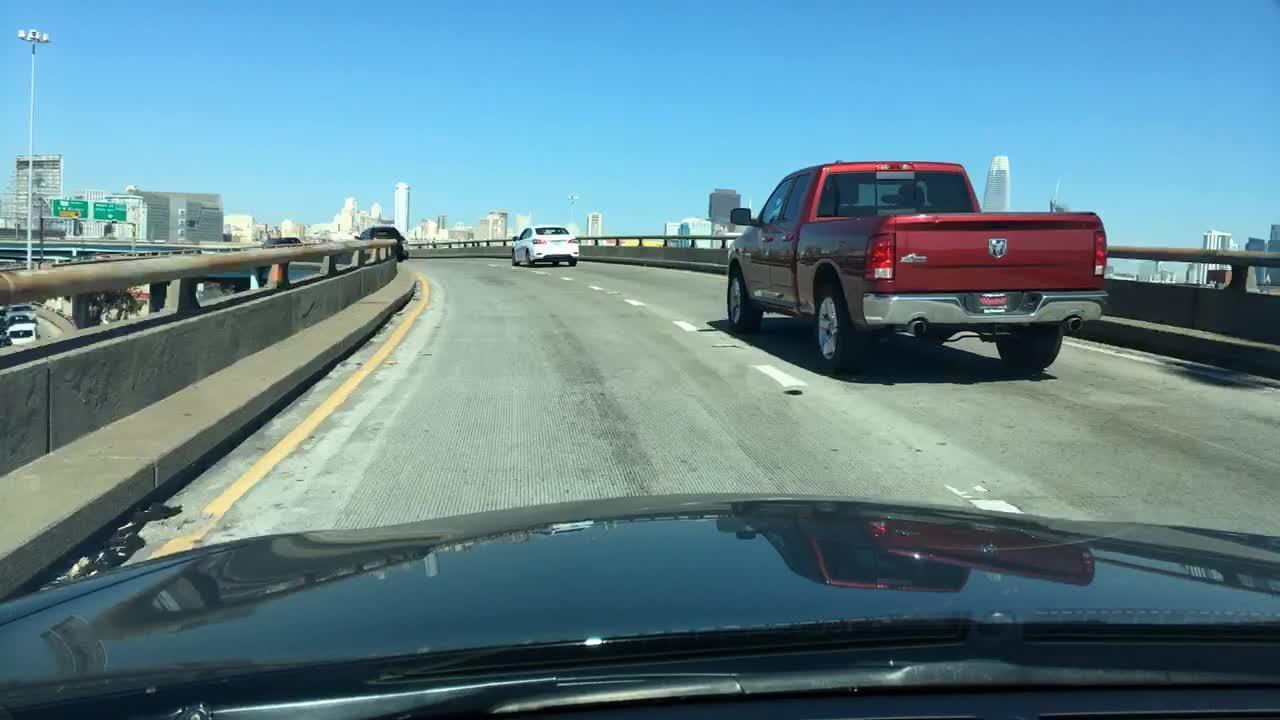ram: (987, 232, 1009, 264)
